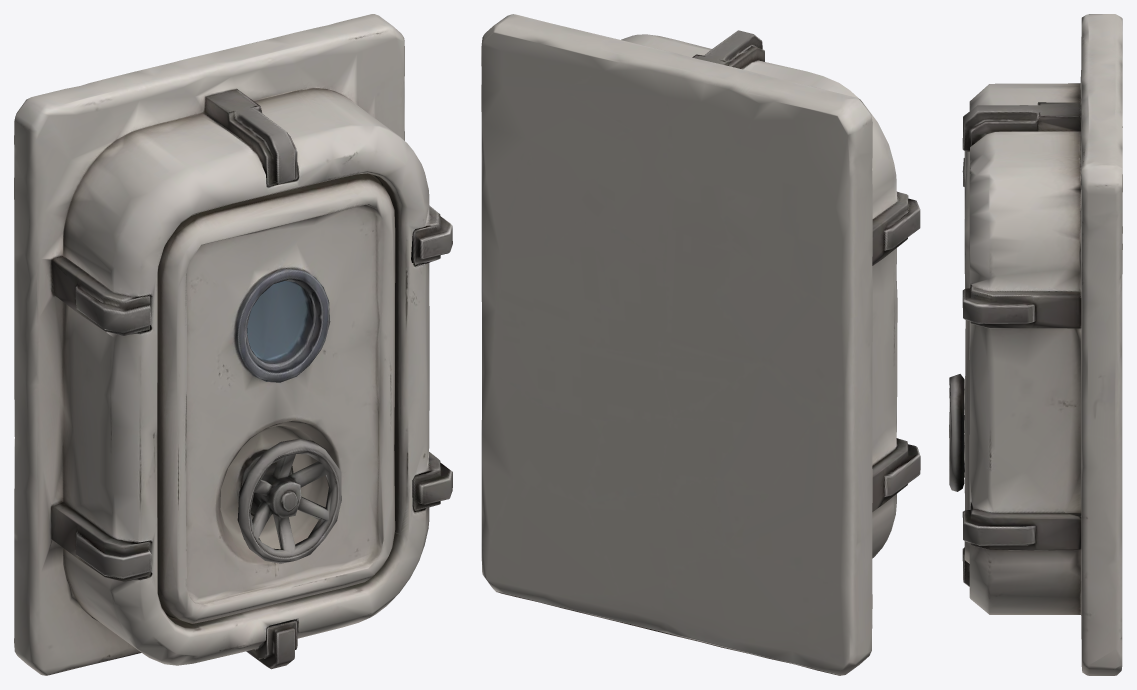
The model's file is airlock.glb.
The picture shows the model from 3 angles, left to right: view 1: azimuth 30°, elevation 25°; view 2: azimuth 150°, elevation 25°; view 3: azimuth 270°, elevation 25°; orthographic projection. The views are drawn at different scales.
Visible parts, largest first — view 1: tripo_node_6a623bc7-750b-4d75-bb15-2b0fb69feb6d; view 2: tripo_node_6a623bc7-750b-4d75-bb15-2b0fb69feb6d; view 3: tripo_node_6a623bc7-750b-4d75-bb15-2b0fb69feb6d.
Part boxes in pixels (bbox=[...]): tripo_node_6a623bc7-750b-4d75-bb15-2b0fb69feb6d: bbox=[14, 14, 452, 675]; tripo_node_6a623bc7-750b-4d75-bb15-2b0fb69feb6d: bbox=[481, 14, 920, 675]; tripo_node_6a623bc7-750b-4d75-bb15-2b0fb69feb6d: bbox=[949, 14, 1122, 675].
Bounding box in the file's own units: 1.8 × 2.6 × 0.7999.
Materials: 1 (1 with a texture image).
